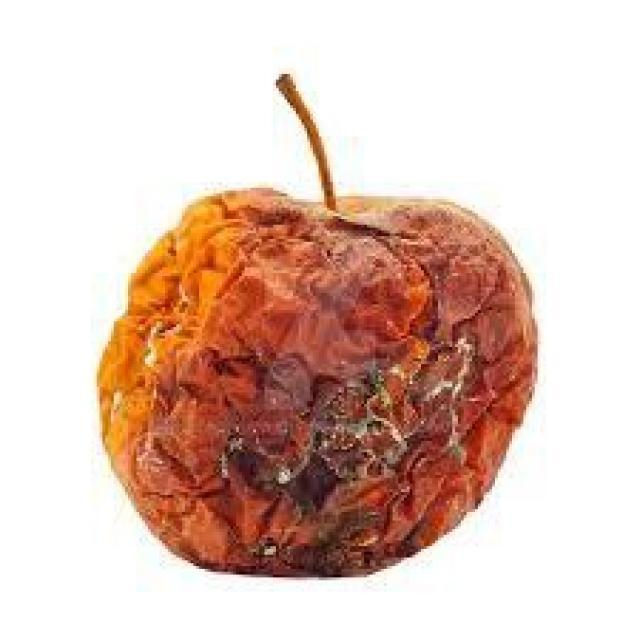Rotten: (119, 198, 528, 572)
